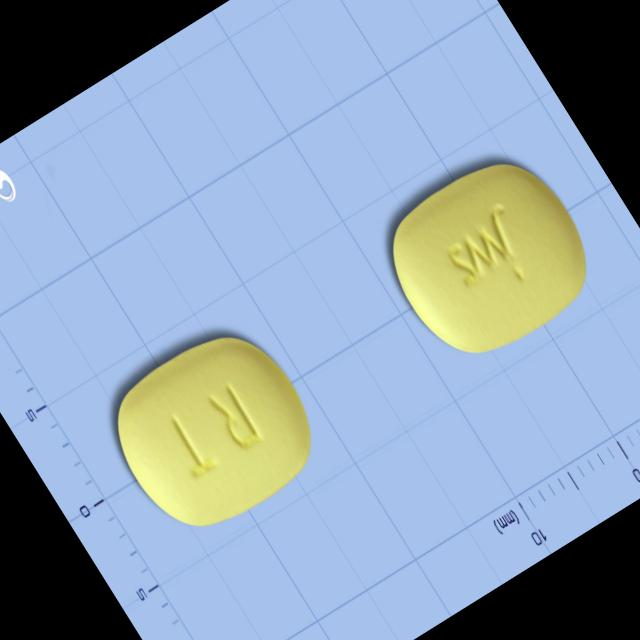Liamclo: (91, 311, 336, 551), (367, 138, 611, 378)
